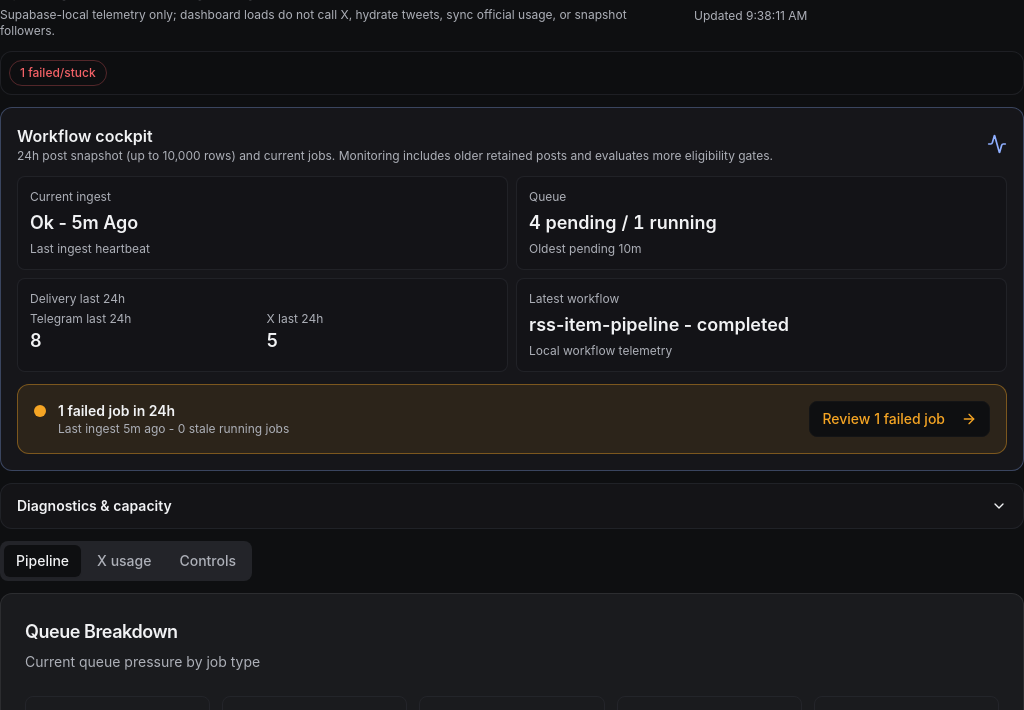
Test: Dashboard › disables the process HUD when diagnostics closes and skips HUD refresh
This screenshot has width=1024, height=710.
Later steps or results of the test are not shown.
Click the heading "Diagnostics & capacity".
click(94, 506)  # box [17,497,1007,514]
(page scrolled)
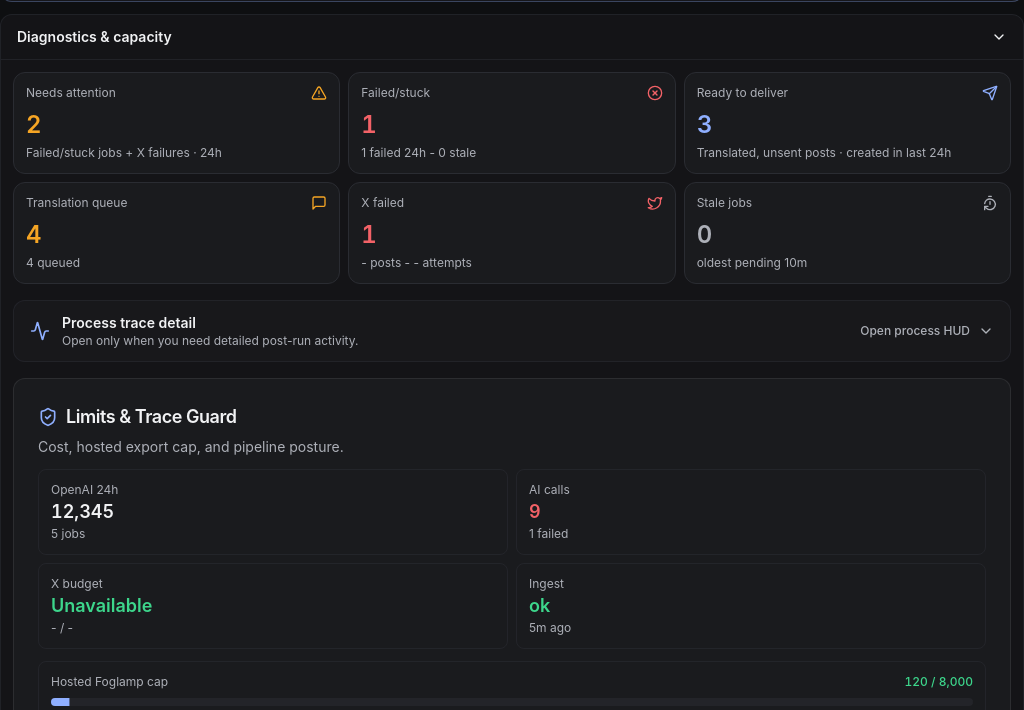
Click the button named "open process hud".
click(129, 322)  # box [14,301,1010,361]
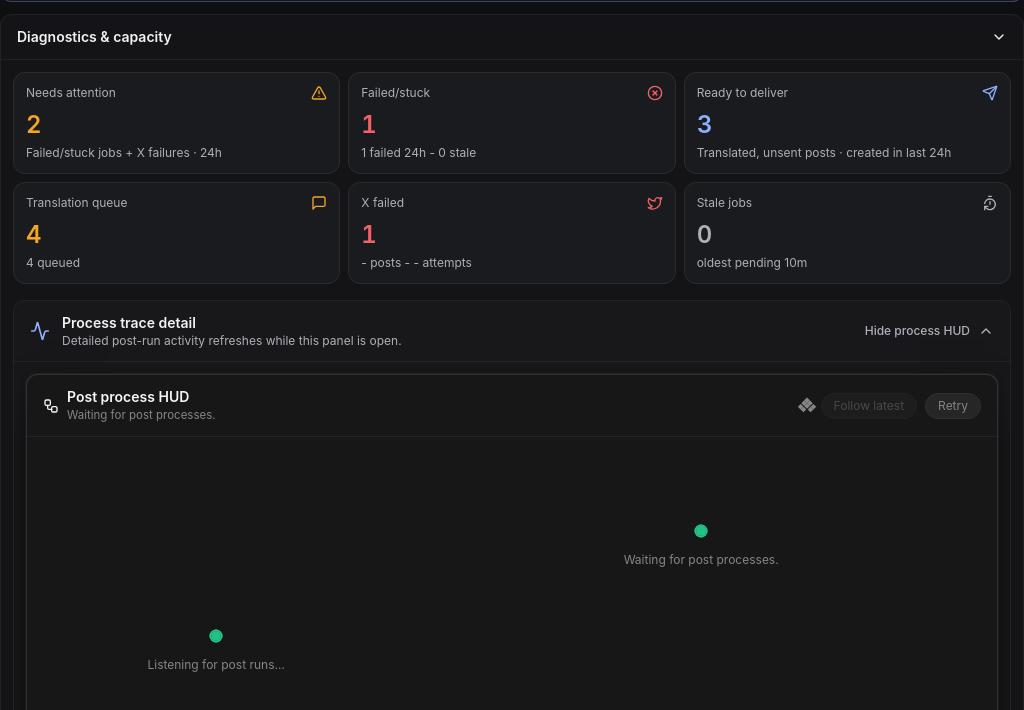
Check: the text "Post process HUD" is shown, box [67,388,189,405]
Click the heading "Diagnostics & capacity".
click(94, 36)  # box [17,28,1007,45]
(page scrolled)
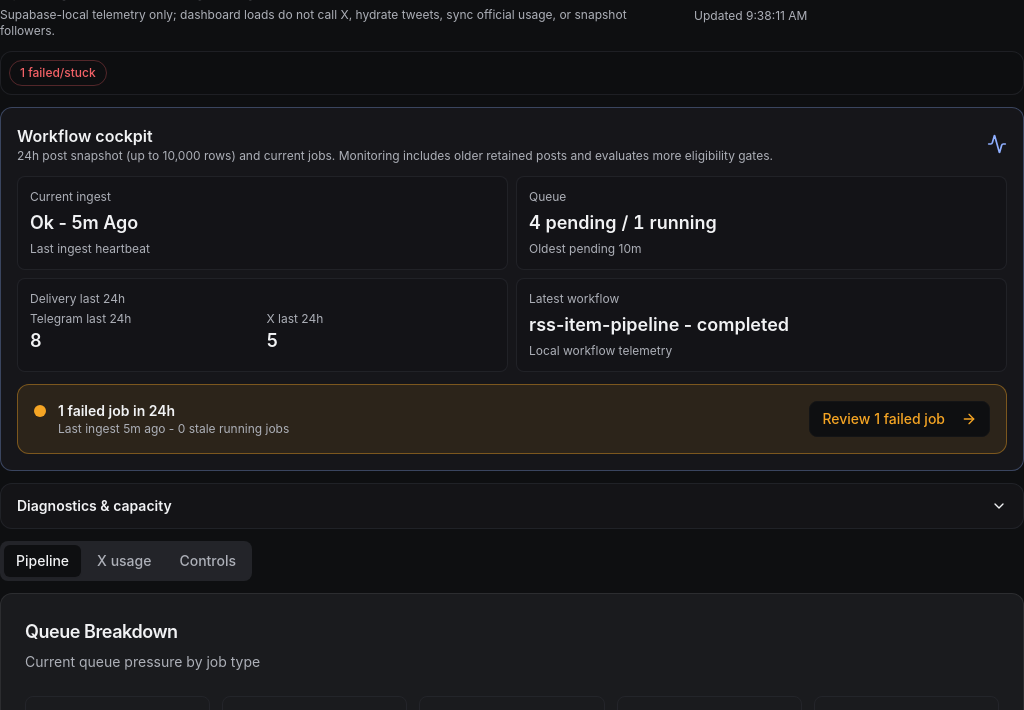
Check: the text "Post process HUD" is gone
